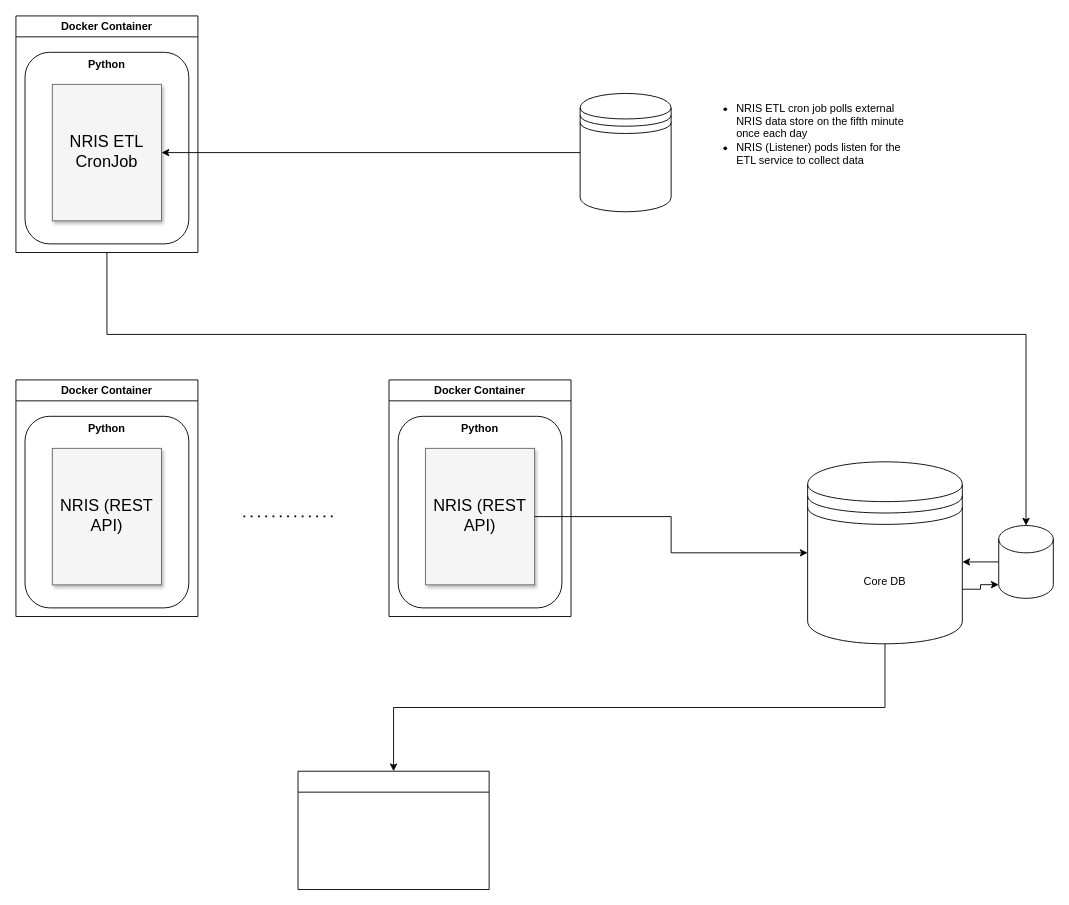
The diagram is 1069 pixels wide and 905 high, and some of its shapes have lost their labels. Here are the shapes that lost their labels. From the top down, the centre of each, then its label:
the point at 625,152: NRIS Oracle DB (External)
the point at 1025,561: NRIS Schema
the point at 393,830: Core (web)
